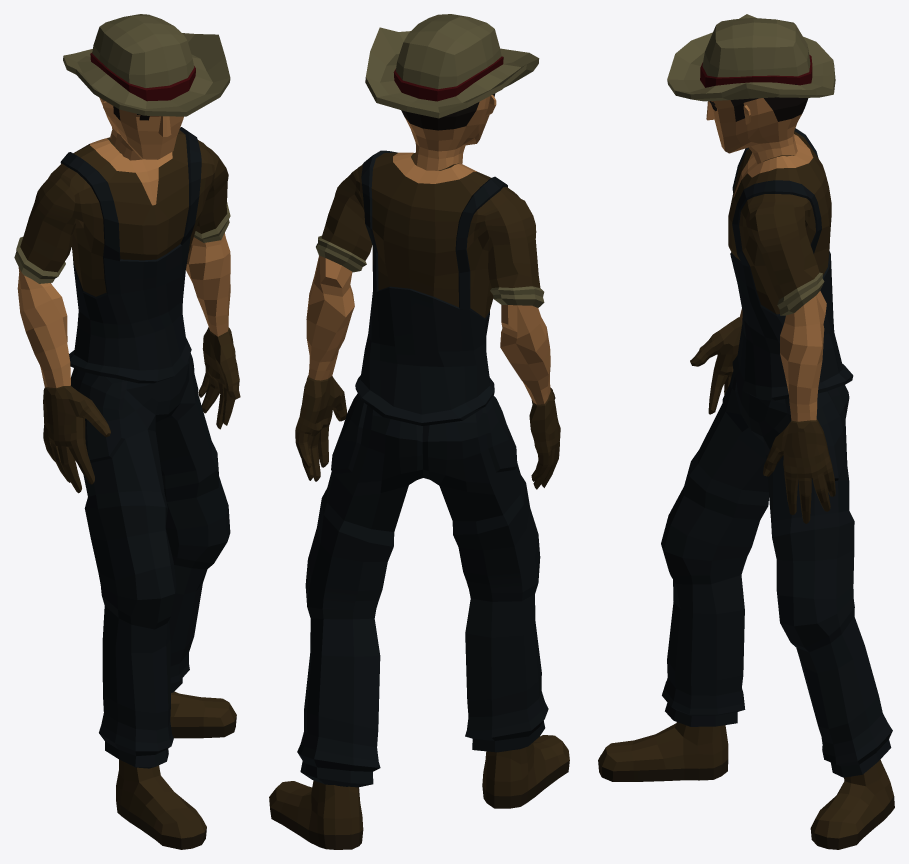
The picture shows the model from 3 angles, left to right: view 1: azimuth 30°, elevation 25°; view 2: azimuth 150°, elevation 25°; view 3: azimuth 270°, elevation 25°; orthographic projection. The views are drawn at different scales.
Visible parts, largest first — view 1: Farmer_Body_static, Farmer_Pants_static, Farmer_Head_static, Farmer_Feet_static; view 2: Farmer_Pants_static, Farmer_Body_static, Farmer_Head_static, Farmer_Feet_static; view 3: Farmer_Pants_static, Farmer_Body_static, Farmer_Head_static, Farmer_Feet_static.
Boxes of the visible parts, x1,y1,x2,y2 form: Farmer_Body_static: (14,127,240,493); Farmer_Pants_static: (71,353,230,768); Farmer_Head_static: (63,14,230,160); Farmer_Feet_static: (116,691,236,849); Farmer_Pants_static: (297,393,548,787); Farmer_Body_static: (295,150,560,489); Farmer_Head_static: (365,14,539,170); Farmer_Feet_static: (269,735,569,849); Farmer_Pants_static: (661,372,892,777); Farmer_Body_static: (690,128,853,523); Farmer_Head_static: (667,14,835,163); Farmer_Feet_static: (598,722,894,849).
Size of the model in its own units: 0.5933 by 1.81 by 0.6377.
